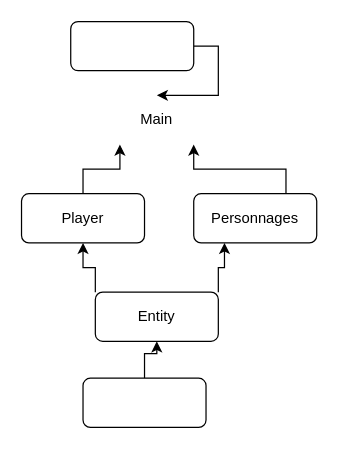
This 338x449 diagram has some shape labels left out. The shapes that lost their labels are listed below. From the top down, each one's box as (x1, y1, x2, y2) in pixels, then its label:
(69, 20, 194, 71): State
(82, 377, 206, 427): Components
